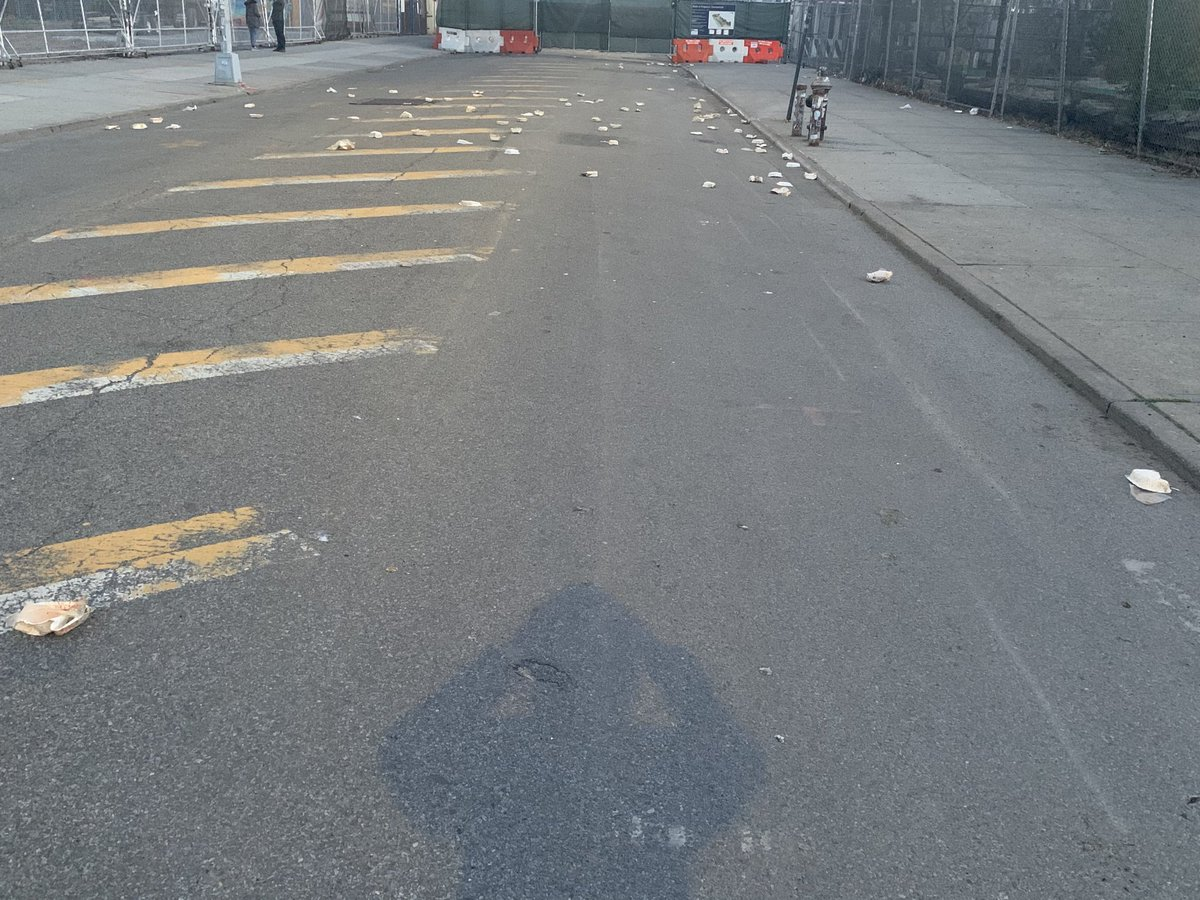sidewalk: (696, 47, 1200, 485)
street: (1, 41, 1200, 900)
